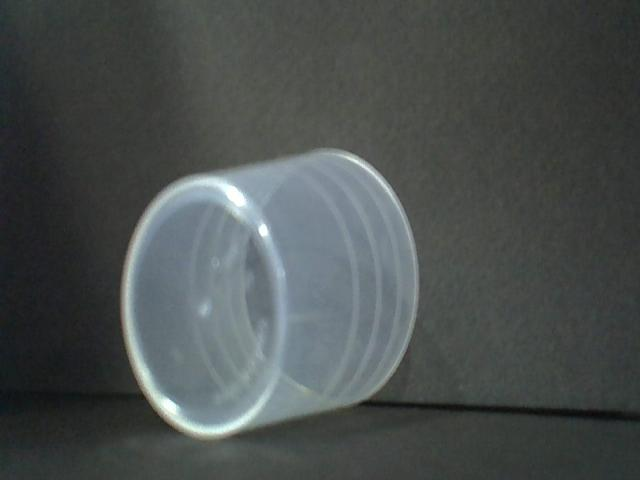cup: (119, 142, 422, 442)
